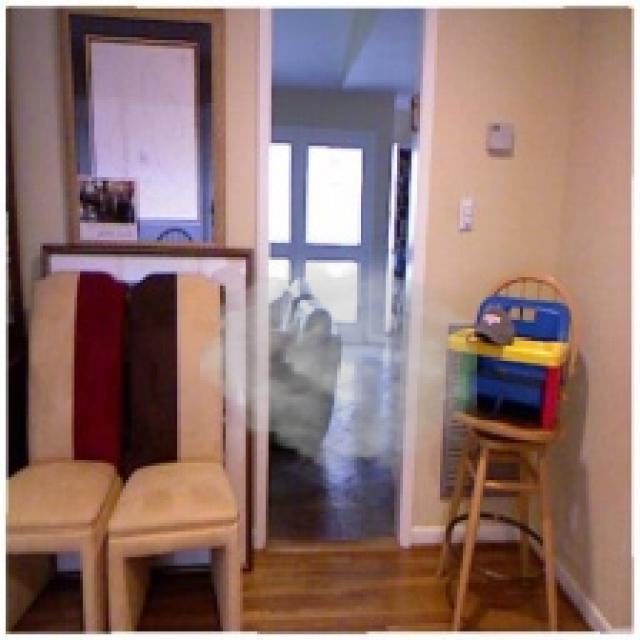Smoke: (200, 252, 477, 479)
